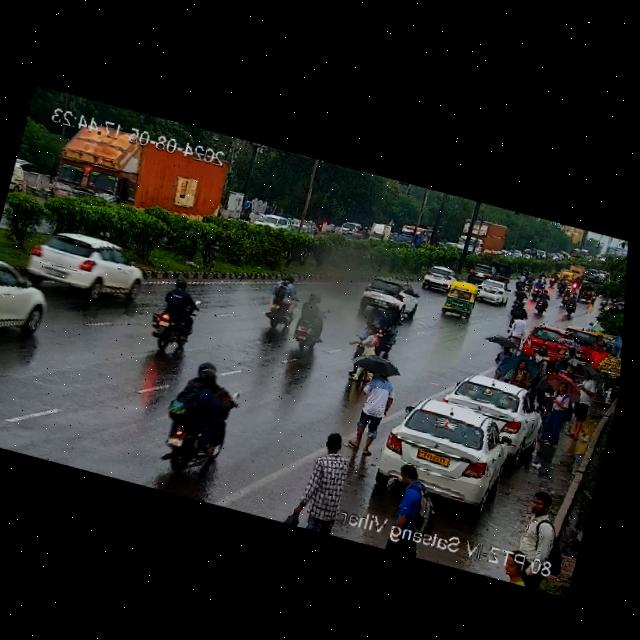bus: (399, 219, 436, 252)
car: (369, 385, 534, 516), (16, 221, 153, 309), (435, 368, 553, 450), (0, 251, 53, 354), (518, 321, 574, 367), (357, 275, 416, 317), (437, 281, 478, 321), (418, 259, 458, 295), (472, 278, 515, 308), (464, 261, 497, 289), (257, 212, 290, 237), (579, 279, 602, 304), (495, 262, 515, 284), (557, 267, 575, 282)
motorcycle: (151, 348, 253, 479), (144, 280, 213, 362), (260, 266, 306, 341), (291, 285, 333, 356), (373, 302, 404, 360), (515, 268, 548, 300), (546, 270, 577, 302), (530, 286, 551, 316), (507, 298, 529, 323), (561, 294, 579, 319), (572, 275, 586, 292)
person: (296, 428, 356, 516), (505, 485, 566, 565), (376, 464, 441, 535), (353, 374, 401, 453), (536, 368, 584, 443), (342, 310, 385, 387), (566, 369, 597, 435), (508, 354, 538, 392), (494, 343, 521, 384), (502, 313, 531, 349), (559, 344, 583, 374), (530, 344, 554, 367), (590, 342, 608, 367)
truck: (48, 121, 256, 247), (445, 213, 508, 264), (568, 262, 588, 278)
